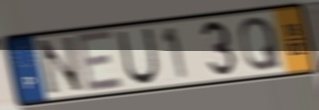1: (160, 25, 189, 82)
3: (200, 18, 239, 81)
E: (73, 29, 126, 96)
N: (36, 34, 88, 99)
Q: (238, 15, 284, 74)
U: (116, 26, 161, 87)
